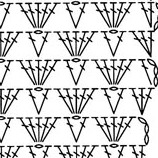enseble_chain: (105, 54, 143, 92), (124, 23, 158, 63), (31, 112, 67, 148), (30, 55, 66, 91), (107, 112, 142, 148), (32, 0, 66, 35), (106, 0, 141, 34), (89, 110, 120, 148), (13, 110, 43, 148), (71, 27, 103, 62), (13, 53, 43, 90), (0, 27, 29, 64), (51, 26, 81, 61), (0, 85, 29, 121), (66, 114, 96, 147), (91, 54, 119, 88), (135, 50, 158, 90), (31, 87, 59, 119), (15, 0, 42, 32), (106, 87, 133, 118), (67, 58, 94, 89), (107, 29, 133, 61), (32, 30, 57, 61), (0, 57, 21, 91), (0, 1, 21, 35), (0, 115, 20, 148), (134, 86, 153, 115), (71, 87, 89, 115), (58, 143, 72, 158)
fan: (15, 113, 42, 147), (16, 56, 42, 89), (92, 0, 117, 31), (98, 28, 119, 60), (60, 0, 81, 31), (138, 0, 158, 31), (99, 57, 119, 86), (139, 29, 158, 59)
